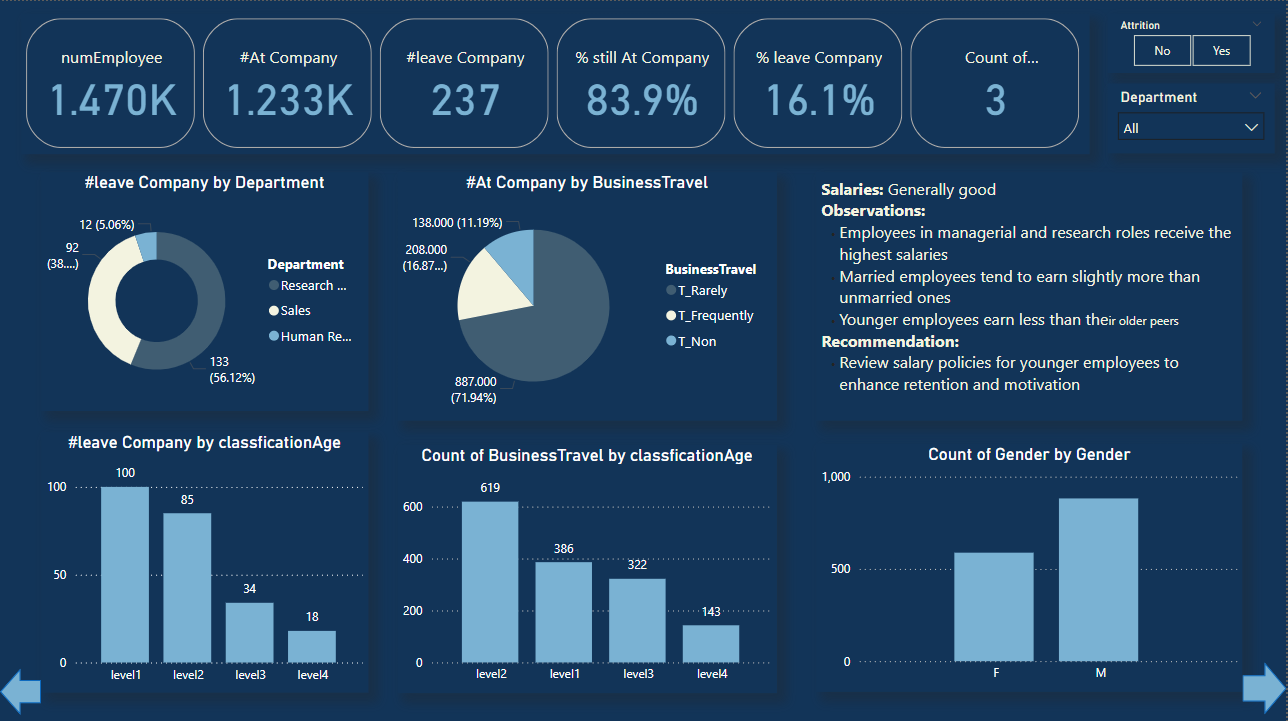

This screenshot's page, from the dashboard's own definition file:
{"tool":"powerbi","page":{"name":"summry","canvas":[1280,720],"ordinal":1},"visuals":[{"type":"cardVisual","fields":{"Data":["hr data.numEmployee","hr data.At Company","hr data.#leave Company","hr data.% still At Company","hr data.% leave Company","Count(hr data.Department)"]},"box":[20.6,12.3,1063.5,140],"z":0},{"type":"columnChart","fields":{"Category":["hr data.classficationAge"],"Y":["hr data.#leave Company"]},"box":[41.2,429.5,325.2,259.3],"z":1000},{"type":"donutChart","fields":{"Category":["hr data.Department"],"Y":["hr data.#leave Company"]},"box":[41.2,170.2,325.2,237.4],"z":2000},{"type":"pieChart","fields":{"Category":["hr data.BusinessTravel"],"Y":["hr data.#At Company"]},"box":[395.2,170.2,377.4,247],"z":3000},{"type":"columnChart","fields":{"Y":["CountNonNull(hr data.BusinessTravel)"],"Category":["hr data.classficationAge"]},"box":[395.2,441.9,377.4,247],"z":5000},{"type":"columnChart","fields":{"Category":["hr data.Gender","hr data.BusinessTravel"],"Y":["CountNonNull(hr data.Gender)"]},"box":[812.4,440.5,424,247],"z":6001},{"type":"shape","box":[0,664.2,41.2,46.7],"z":6002},{"type":"shape","box":[1236.4,658.7,43.9,52.1],"z":6003},{"type":"textbox","box":[812.4,170.2,424,247],"z":6004},{"type":"slicer","fields":{"Values":["hr data.Attrition"]},"box":[1101.9,12.3,166,59],"z":6005},{"type":"slicer","fields":{"Values":["hr data.Department"]},"box":[1101.9,82.3,166,70],"z":6006}]}

Visuals, with their boxes in screenshot pixels (x1, y1, x2, y2), scaled from the page's 1280x720 canvas onto the 1288x721 screenshot:
cardVisual - hr data.numEmployee x hr data.At Company: 21,12,1091,153
columnChart - hr data.classficationAge x hr data.#leave Company: 41,430,369,690
donutChart - hr data.Department x hr data.#leave Company: 41,170,369,408
pieChart - hr data.BusinessTravel x hr data.#At Company: 398,170,777,418
columnChart - CountNonNull(hr data.BusinessTravel) x hr data.classficationAge: 398,443,777,690
columnChart - hr data.Gender x hr data.BusinessTravel: 817,441,1244,688
shape: 0,665,41,712
shape: 1244,660,1287,712
textbox: 817,170,1244,418
slicer - hr data.Attrition: 1109,12,1276,71
slicer - hr data.Department: 1109,82,1276,153
